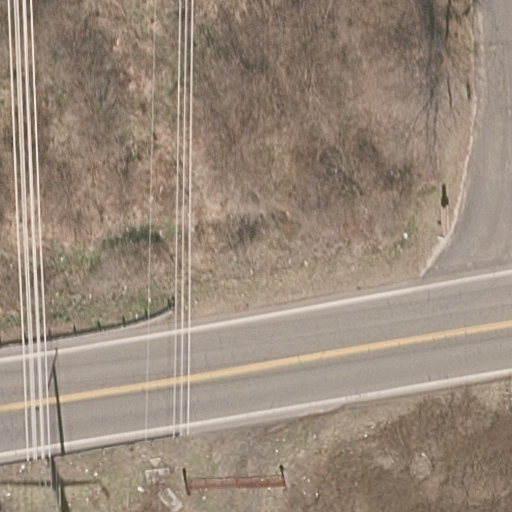DT: (48, 347, 69, 455)
